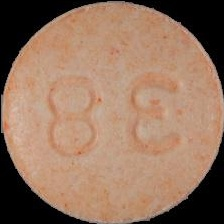63629-5424: (0, 0, 224, 224)
